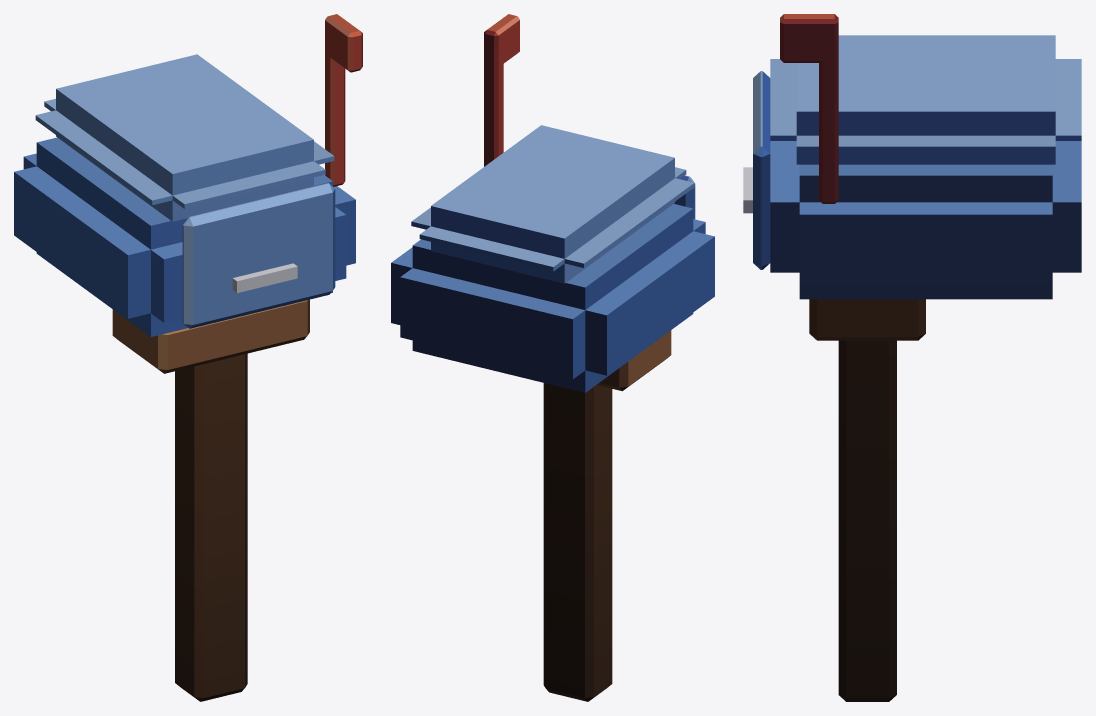
File: mailbox.glb
The picture shows the model from 3 angles, left to right: view 1: azimuth 30°, elevation 25°; view 2: azimuth 150°, elevation 25°; view 3: azimuth 270°, elevation 25°; orthographic projection. The views are drawn at different scales.
Visible parts, largest first — view 1: mailbox; view 2: mailbox; view 3: mailbox.
Boxes of the visible parts, x1,y1,x2,y2 form: mailbox: [14, 14, 362, 701]; mailbox: [391, 14, 714, 701]; mailbox: [743, 14, 1081, 701].
Bounding box in the file's own units: 0.3 × 0.83 × 0.348.
